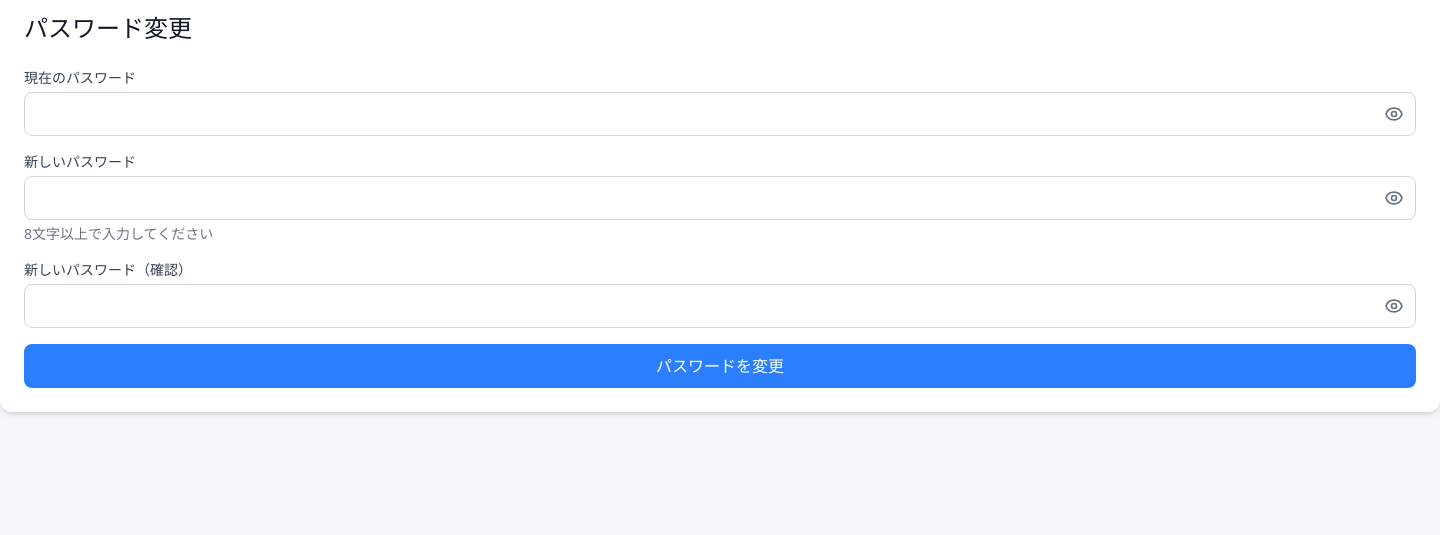
Test: PasswordChangeForm › Validation › should show error when new passwords do not match
Type "oldpass123" into the password field labelled "現在のパスワード" at (720, 114), box [24, 92, 1416, 136]
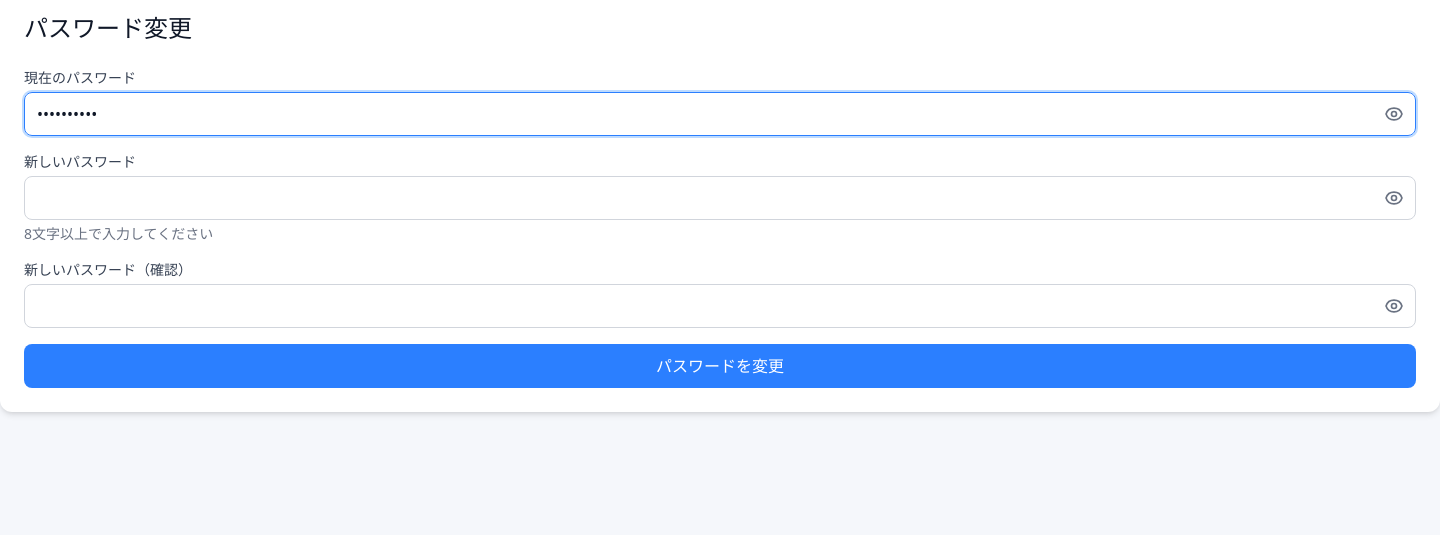
Type "newpassword123" into the password field labelled "新しいパスワード" at (720, 198), box [24, 176, 1416, 220]
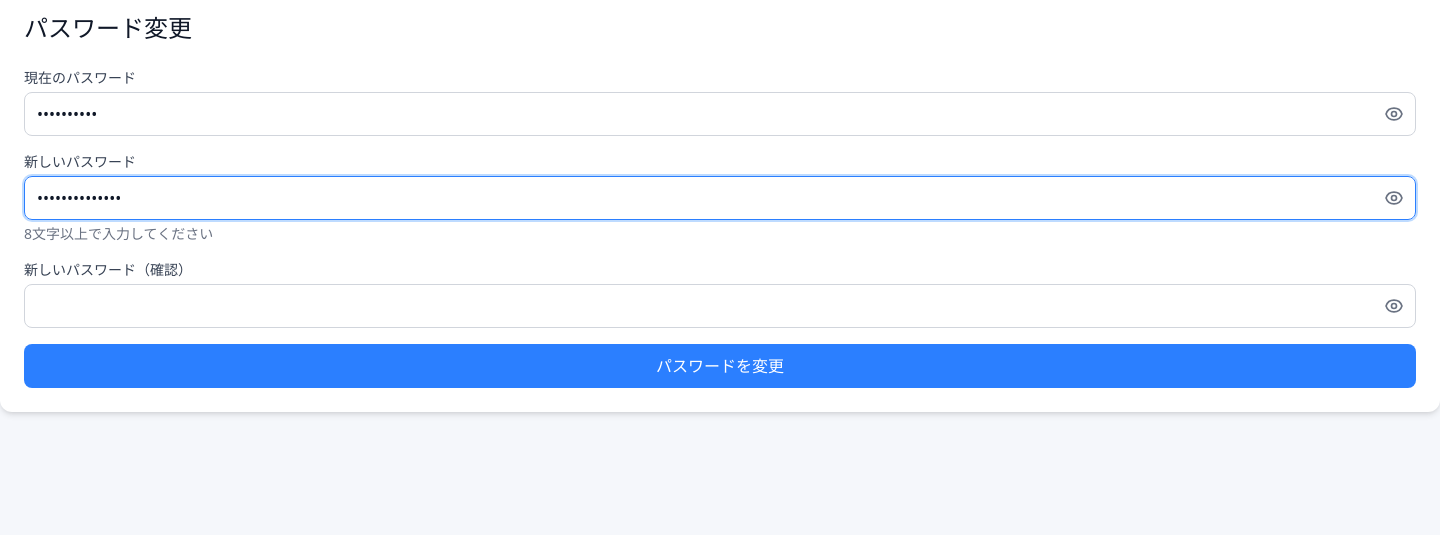
Type "differentpass123" into the password field labelled "新しいパスワード（確認）" at (720, 306), box [24, 284, 1416, 328]
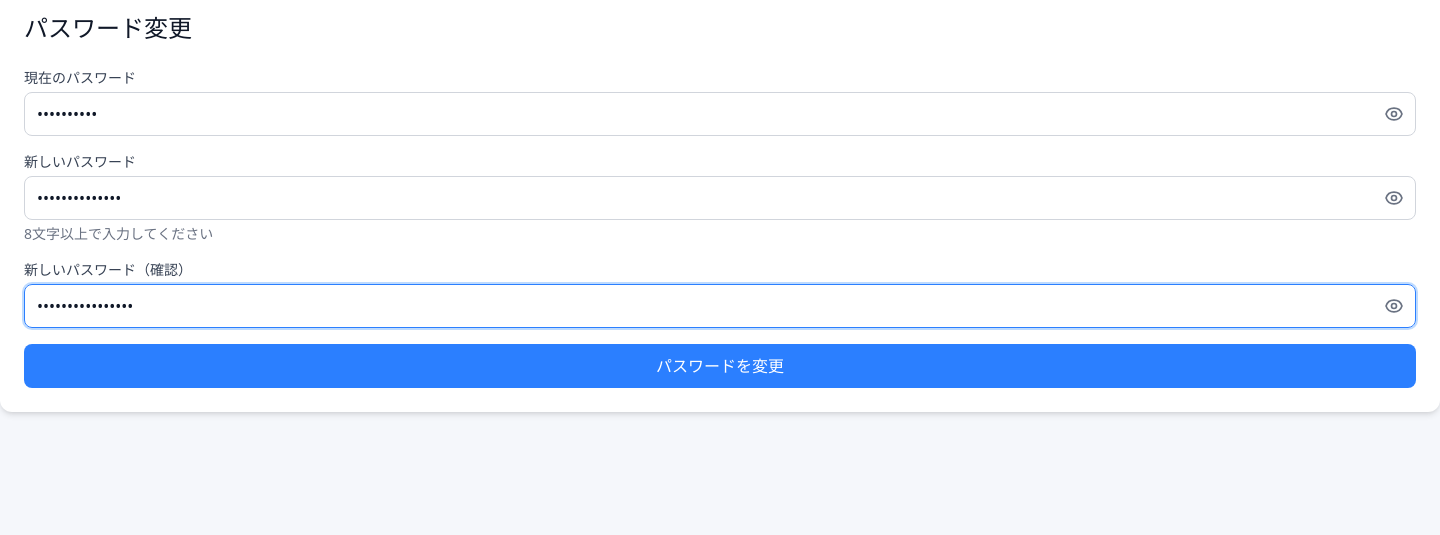
Click the button "パスワードを変更" at (720, 366), box [24, 344, 1416, 388]
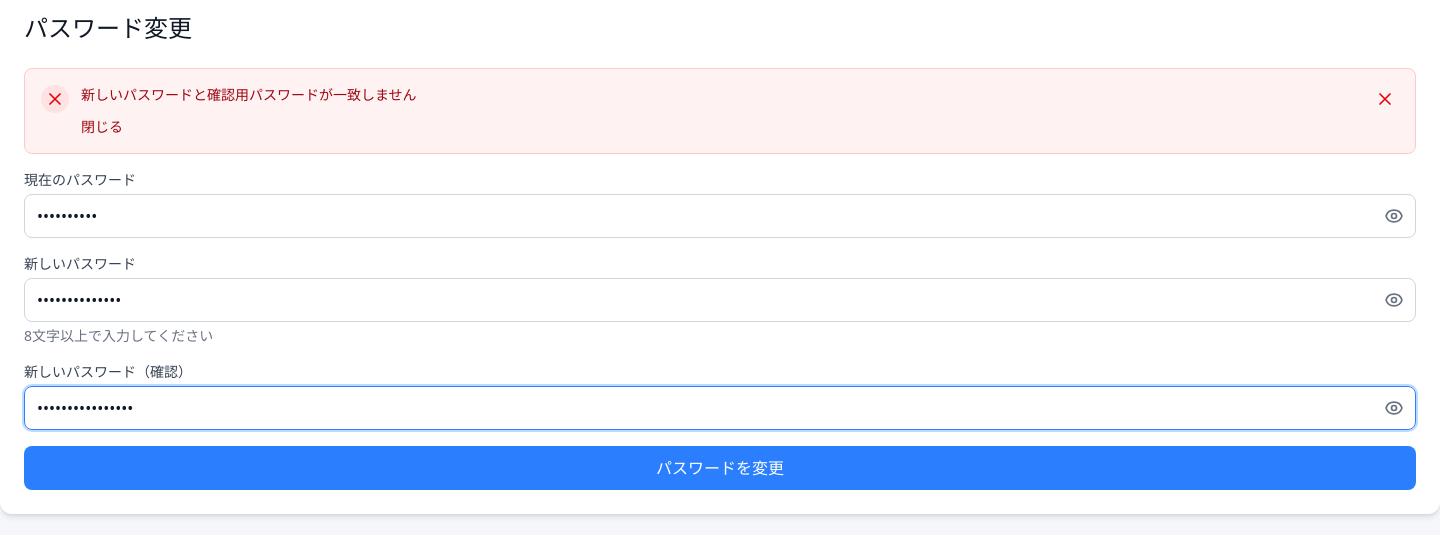
Result: the message shows "新しいパスワードと確認用パスワードが一致しません" at [81, 85, 417, 104]
